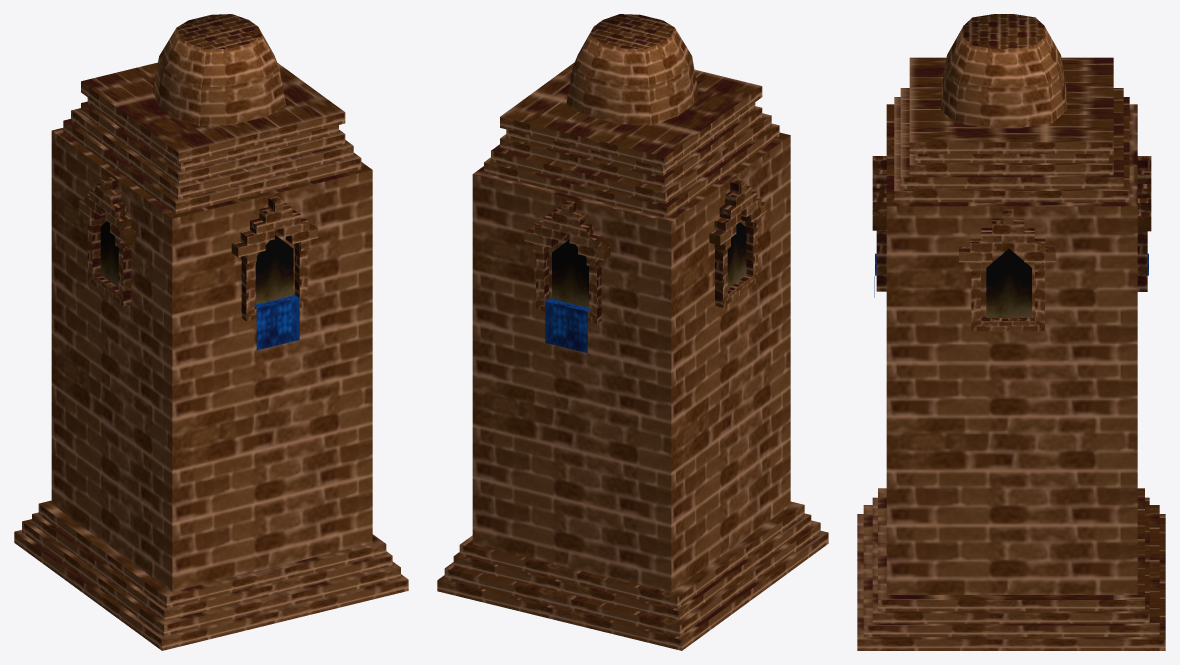
File: wall_tower.dae
The picture shows the model from 3 angles, left to right: view 1: azimuth 30°, elevation 25°; view 2: azimuth 150°, elevation 25°; view 3: azimuth 270°, elevation 25°; orthographic projection. The views are drawn at different scales.
Parts seen in each view (by area): view 1: wall_tower; view 2: wall_tower; view 3: wall_tower.
Boxes of the visible parts, <box> form: wall_tower: <box>14,14,408,650</box>; wall_tower: <box>437,14,828,650</box>; wall_tower: <box>857,14,1165,650</box>.
Size of the model in its own units: 9.6 by 9.97 by 19.96.
